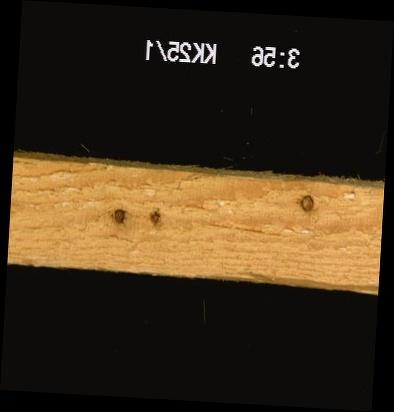dry_knot: (299, 192, 315, 212), (112, 207, 126, 224), (148, 205, 161, 223)
split: (201, 219, 297, 235)
wave: (243, 268, 378, 289)
